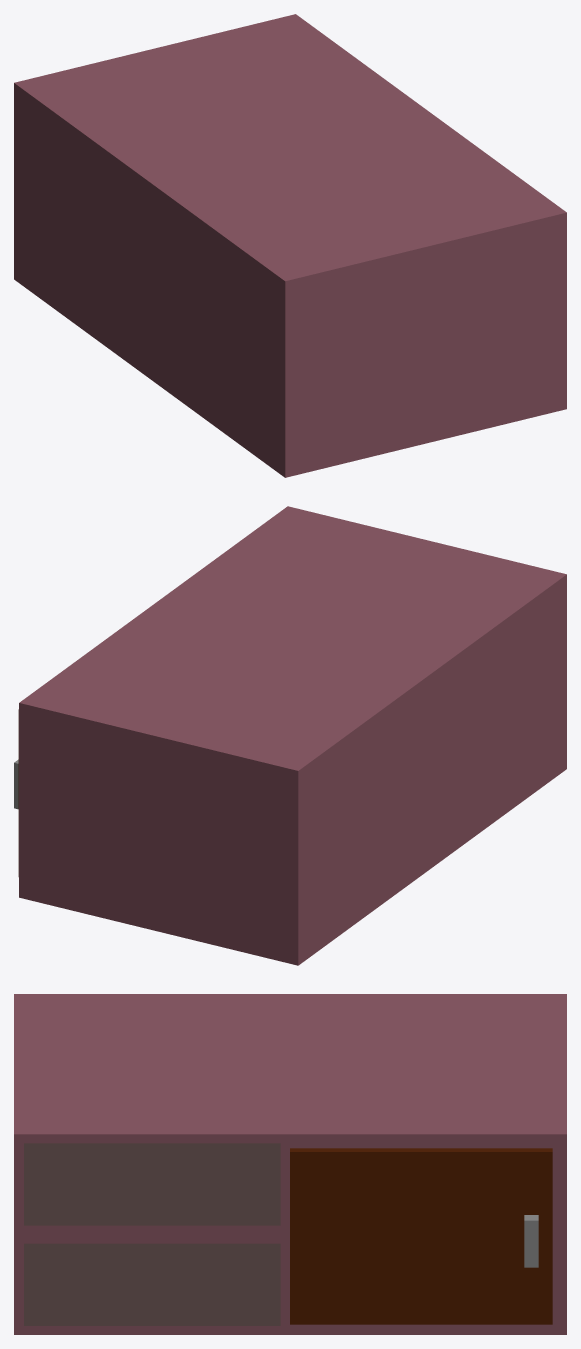
Rendered from Res01_Kitchen_HangBox4.fbx.
3 renders of one model, top to bottom at view 1: azimuth 30°, elevation 25°; view 2: azimuth 150°, elevation 25°; view 3: azimuth 270°, elevation 25°, orthographic. The views are drawn at different scales.
Parts seen in each view (by area): view 1: Res01_Kitchen_HangBox4; view 2: Res01_Kitchen_HangBox4; view 3: Res01_Kitchen_HangBox4.
Boxes of the visible parts, x1,y1,x2,y2 form: Res01_Kitchen_HangBox4: (14,14,566,477); Res01_Kitchen_HangBox4: (14,506,566,965); Res01_Kitchen_HangBox4: (14,994,566,1334).
Bounding box in the file's own units: 128 × 80 × 200.
